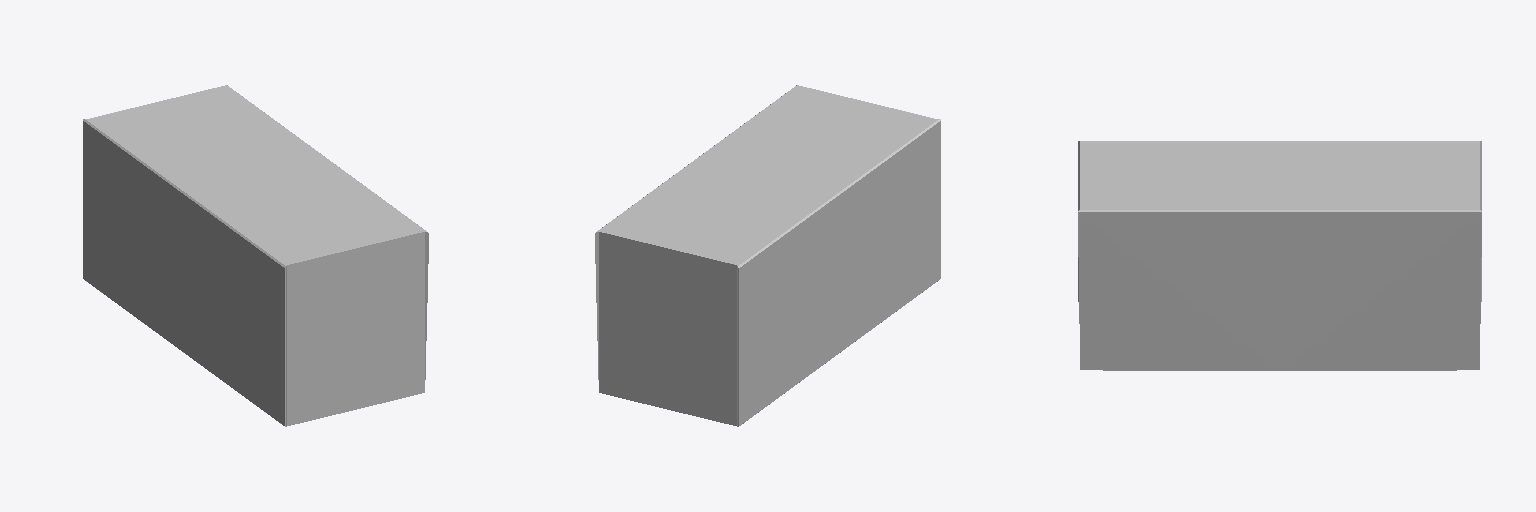
The model's file is cargo3.obj.
3 views of the same model, side by side, from view 1: azimuth 30°, elevation 25°; view 2: azimuth 150°, elevation 25°; view 3: azimuth 270°, elevation 25° (orthographic).
Visible parts, largest first — view 1: polySurface582 Cargo_container_01_Mesh; view 2: polySurface582 Cargo_container_01_Mesh; view 3: polySurface582 Cargo_container_01_Mesh.
Boxes of the visible parts, <box> form: polySurface582 Cargo_container_01_Mesh: <box>83,85,428,426</box>; polySurface582 Cargo_container_01_Mesh: <box>595,85,940,426</box>; polySurface582 Cargo_container_01_Mesh: <box>1078,141,1481,370</box>.
Size of the model in its own units: 9.74 by 10.39 by 23.62.